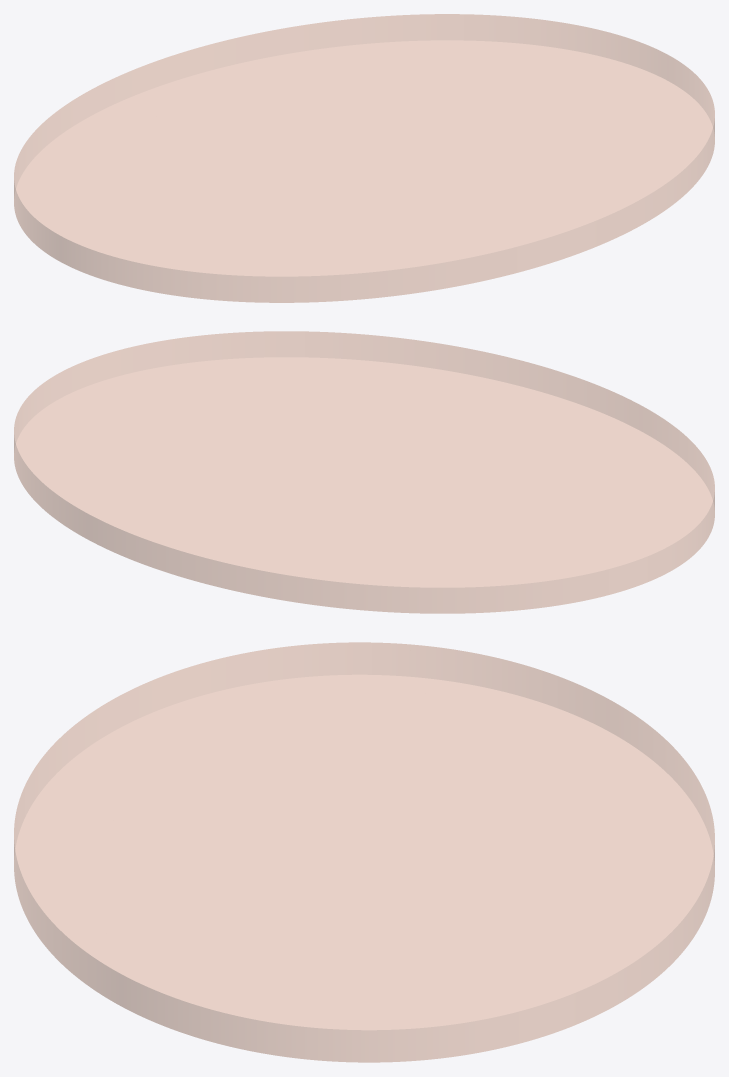
Rendered from Development_Area_Harbour_0.glb.
3 renders of one model, top to bottom at view 1: azimuth 30°, elevation 25°; view 2: azimuth 150°, elevation 25°; view 3: azimuth 270°, elevation 25°, orthographic. The views are drawn at different scales.
Parts seen in each view (by area): view 1: from extrude; view 2: from extrude; view 3: from extrude.
Part boxes in pixels (x1,y1,x2,y2): from extrude: (14,14,714,302); from extrude: (14,331,714,613); from extrude: (14,642,714,1062).
Bounding box in the file's own units: 128 × 5 × 98.1.
